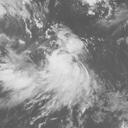cyclone: (32, 23, 103, 108)
